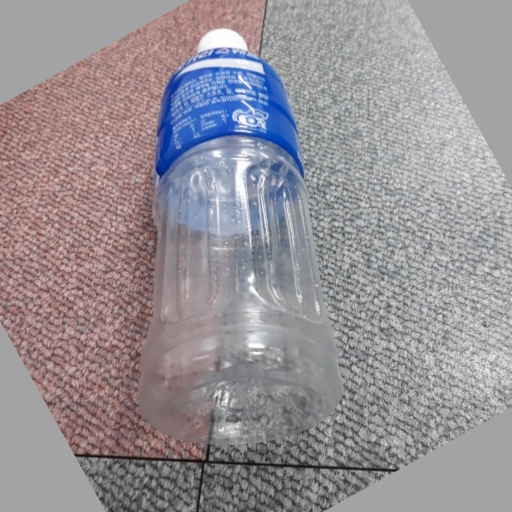Plastic_0: (133, 28, 344, 444)
